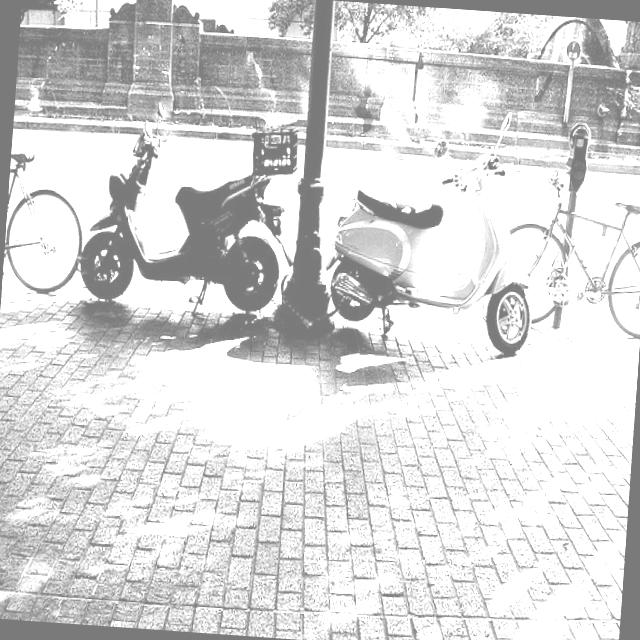Vehicle: (321, 99, 545, 357), (74, 95, 304, 322)
